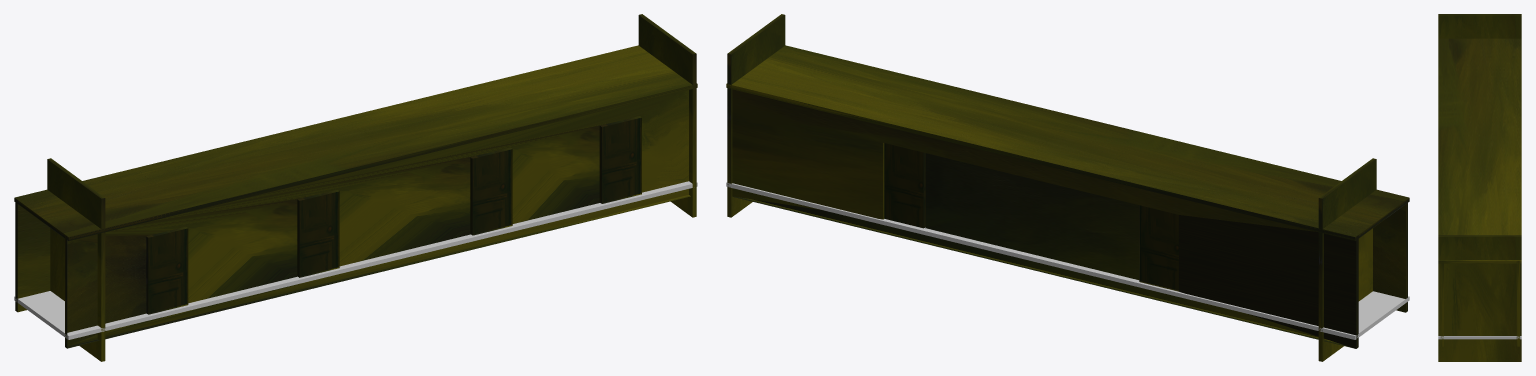
Rendered from level3.fbx.
3 views of the same model, side by side, from view 1: azimuth 30°, elevation 25°; view 2: azimuth 150°, elevation 25°; view 3: azimuth 270°, elevation 25° (orthographic). The views are drawn at different scales.
Parts seen in each view (by area): view 1: УУУУУУ.002, УУУУУУ.004, УУУУУУ.001, УУУУУУ.005, УУУУУУ.006, Cube.001, Cube.002, Cube.003, Cube.004, УУУУУУ.003; view 2: УУУУУУ.003, УУУУУУ.004, УУУУУУ.001, УУУУУУ.005, Cube.006, УУУУУУ.006, Cube.007, УУУУУУ.002; view 3: УУУУУУ.004, УУУУУУ.006, УУУУУУ.005, УУУУУУ.003, УУУУУУ.002, УУУУУУ.001.
Boxes of the visible parts, x1,y1,x2,y2 form: УУУУУУ.002: (65,90,690,348); УУУУУУ.004: (14,45,697,240); УУУУУУ.001: (14,181,697,339); УУУУУУ.005: (47,158,105,361); УУУУУУ.006: (638,14,696,217); Cube.001: (470,149,511,234); Cube.002: (297,192,338,276); Cube.003: (599,118,640,202); Cube.004: (148,228,187,313); УУУУУУ.003: (15,199,50,312); УУУУУУ.003: (732,89,1358,348); УУУУУУ.004: (726,45,1409,240); УУУУУУ.001: (726,182,1409,339); УУУУУУ.005: (1318,158,1376,361); Cube.006: (884,143,925,228); УУУУУУ.006: (727,14,785,217); Cube.007: (1140,205,1178,290); УУУУУУ.002: (1373,203,1407,312); УУУУУУ.004: (1438,38,1521,263); УУУУУУ.006: (1438,235,1521,361); УУУУУУ.005: (1438,14,1521,38); УУУУУУ.003: (1516,261,1519,346); УУУУУУ.002: (1440,260,1443,346); УУУУУУ.001: (1438,336,1521,339).
Size of the model in its own units: 1258 by 312 by 188.
